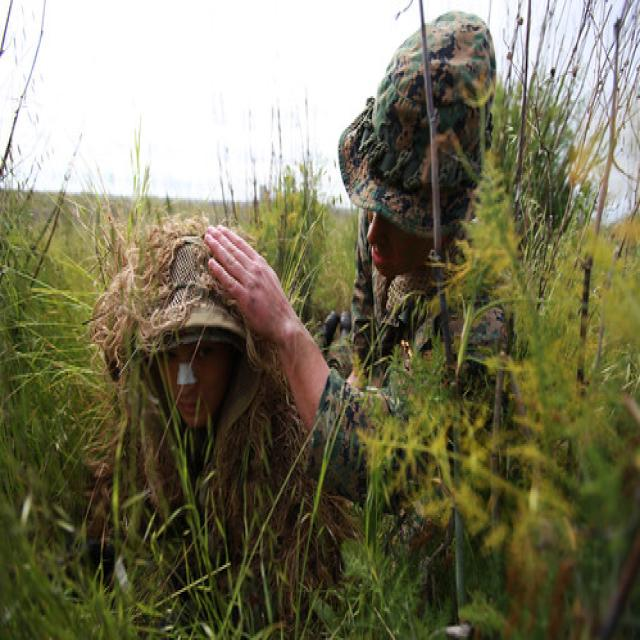Human: (89, 211, 393, 582), (326, 11, 514, 407)
